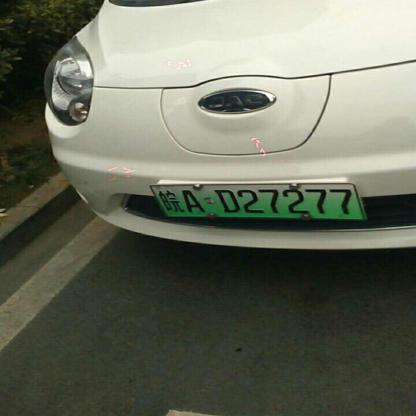lp: (148, 184, 364, 218)
